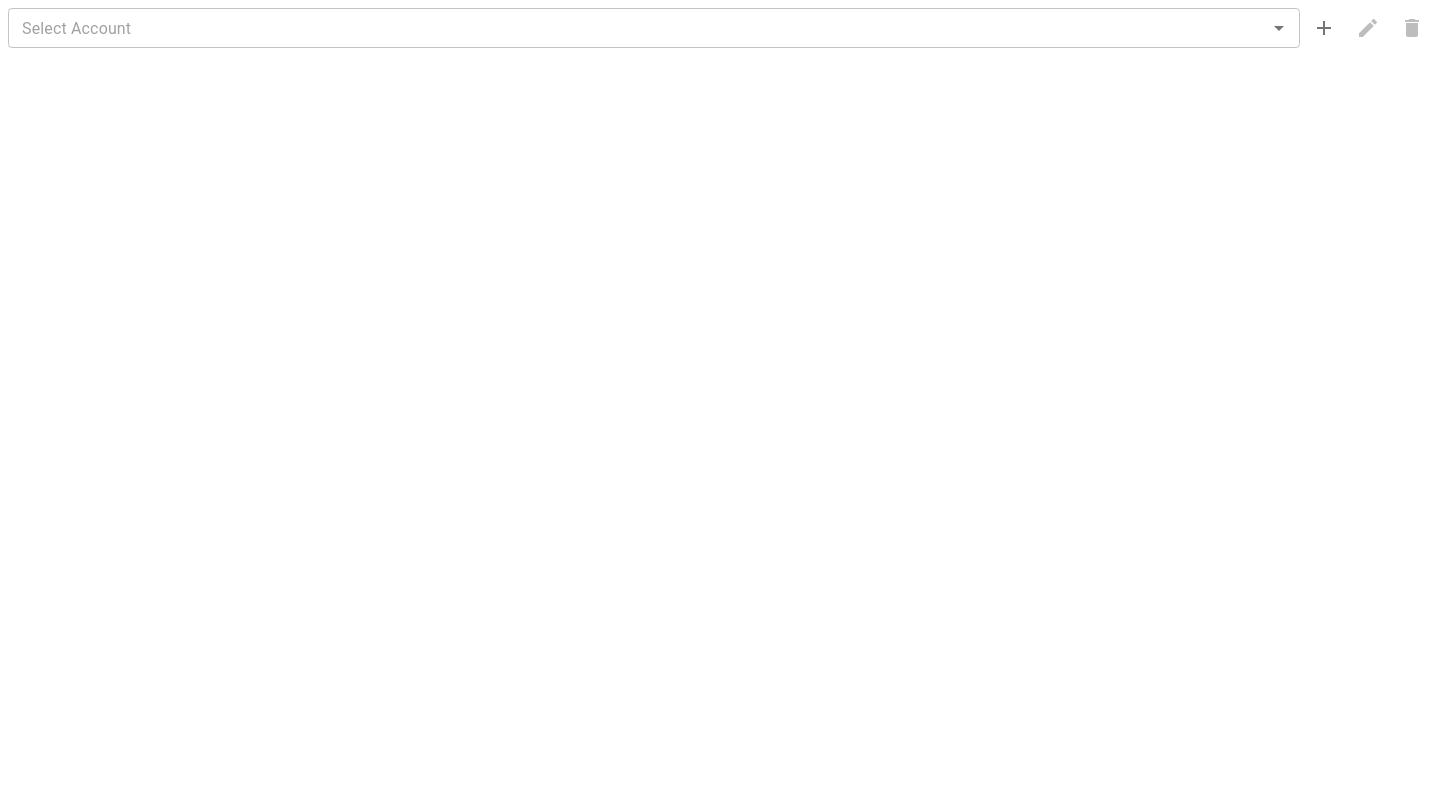
Scenario: AccountList › opens AccountDialog in creation mode when plus button is clicked
This screenshot has width=1440, height=810.
What coordinates should you click on to do the following:
click the button named "create"
I would click on:
 (1324, 28)
Its box is [1304, 8, 1344, 48].
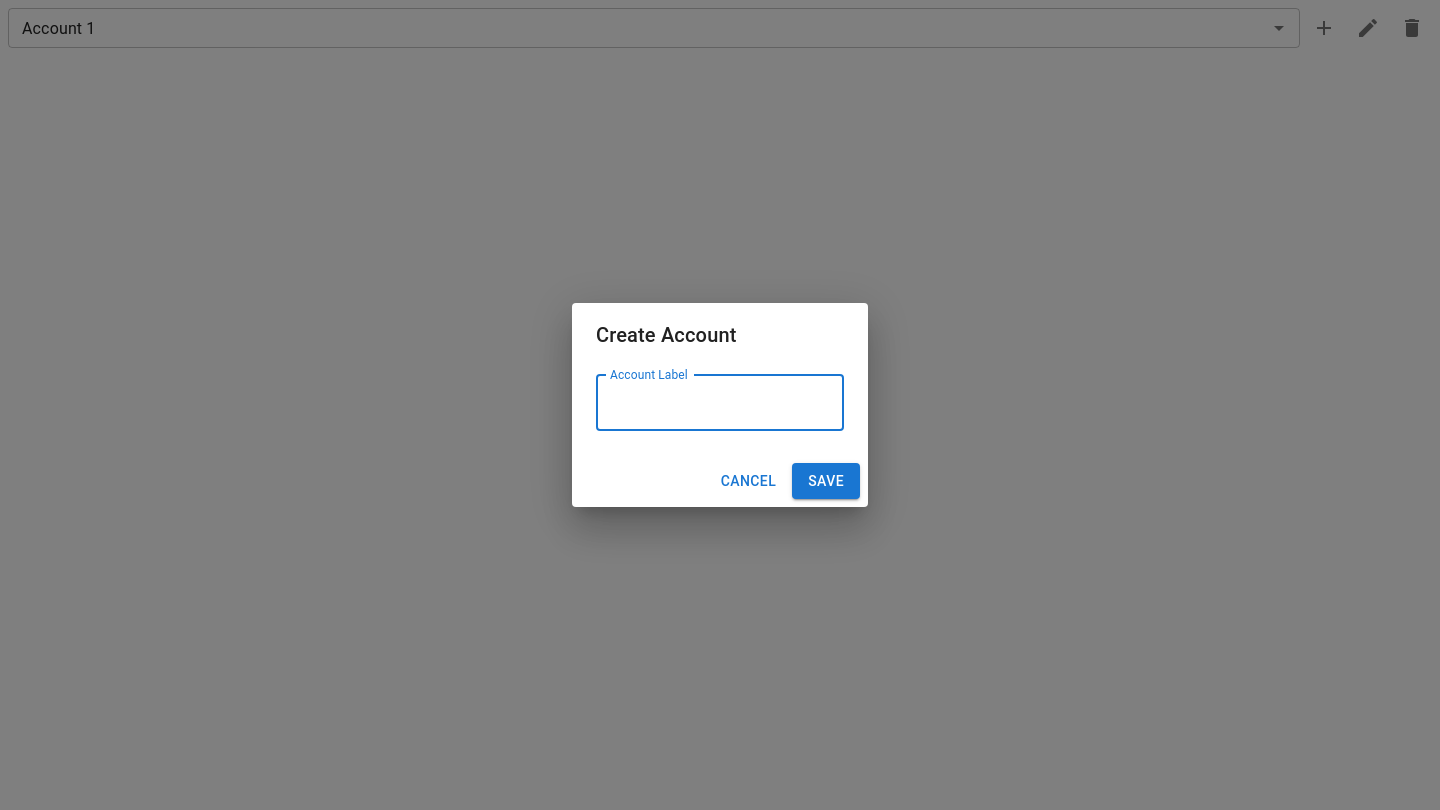
Now the heading "Create Account" is shown, box [596, 323, 736, 347]
